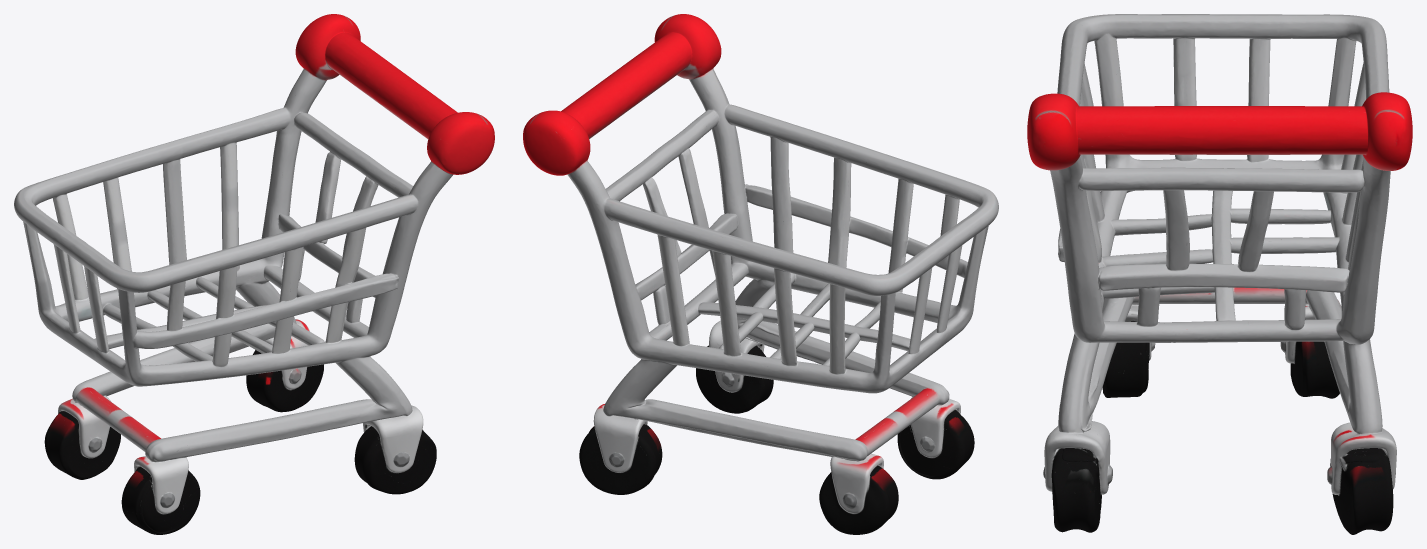
The model's file is shopping-cart.glb.
3 renders of one model, left to right at view 1: azimuth 30°, elevation 25°; view 2: azimuth 150°, elevation 25°; view 3: azimuth 270°, elevation 25°, orthographic. The views are drawn at different scales.
Bounding box in the file's own units: 1.9 × 1.87 × 1.4.
Materials: 1 (1 with a texture image).
